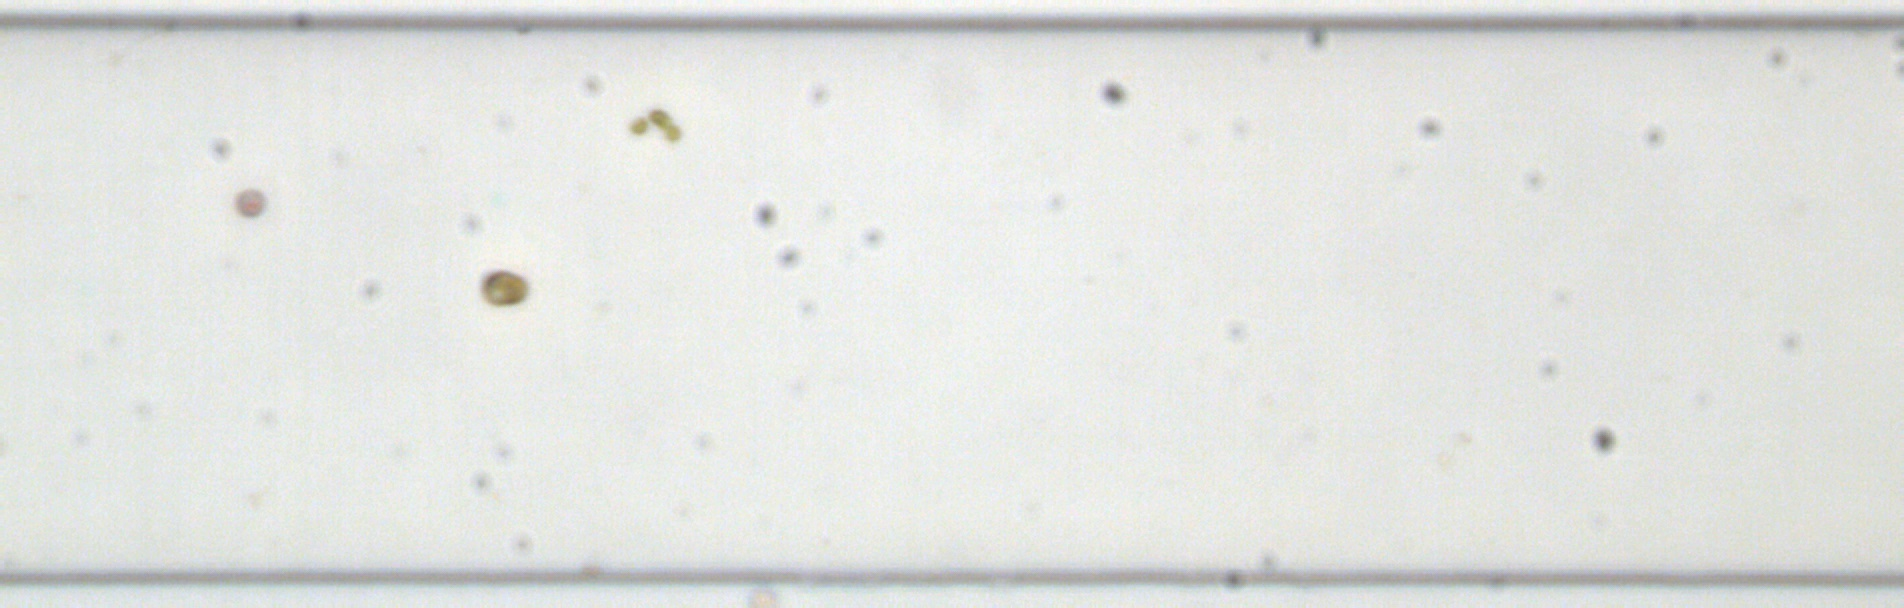Chlorella: (648, 108, 667, 126), (629, 115, 646, 133), (664, 123, 682, 140)
Effrenium: (478, 269, 531, 303)
Porphyridium: (234, 186, 268, 220)
